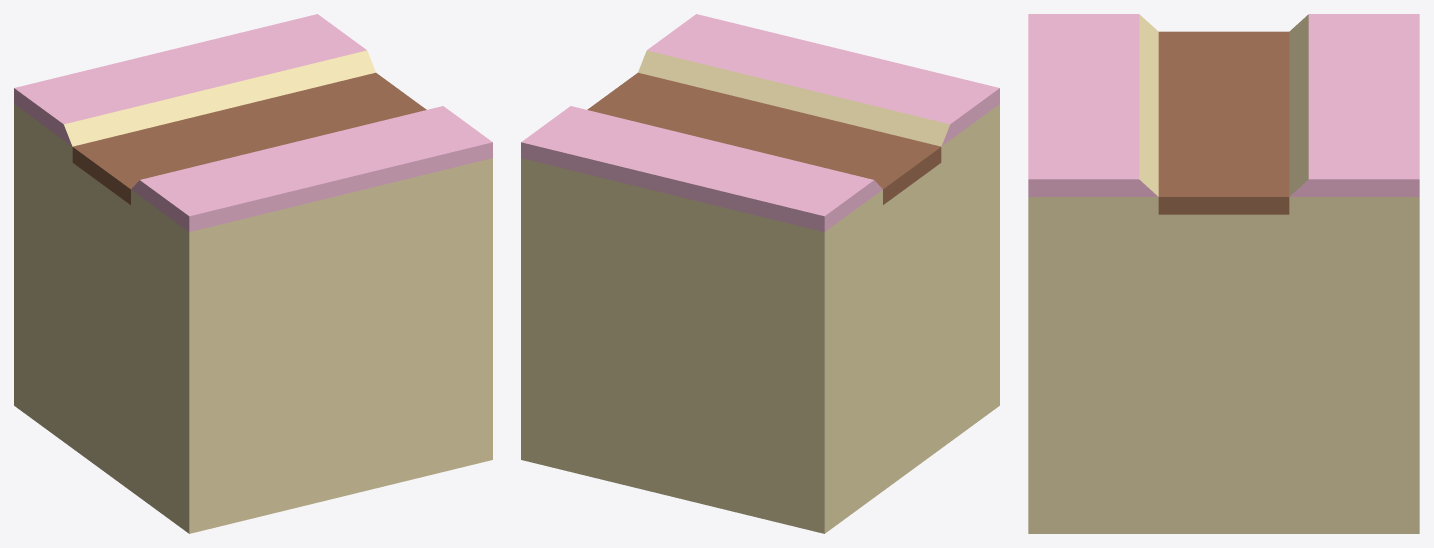
File: CandylandRiverStraightCube.fbx
3 renders of one model, left to right at view 1: azimuth 30°, elevation 25°; view 2: azimuth 150°, elevation 25°; view 3: azimuth 270°, elevation 25°, orthographic. The views are drawn at different scales.
Parts seen in each view (by area): view 1: CandylandRiverStraightCube; view 2: CandylandRiverStraightCube; view 3: CandylandRiverStraightCube.
Boxes of the visible parts, <box> form: CandylandRiverStraightCube: <box>14,14,492,533</box>; CandylandRiverStraightCube: <box>521,14,999,533</box>; CandylandRiverStraightCube: <box>1028,14,1419,533</box>.
Size of the model in its own units: 1 by 1 by 1.
